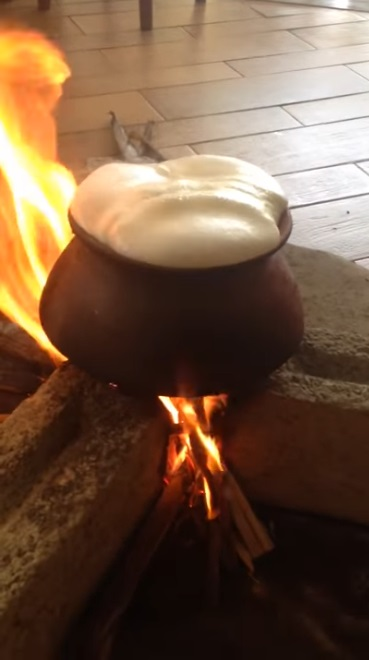Boiled: (65, 151, 290, 389)
